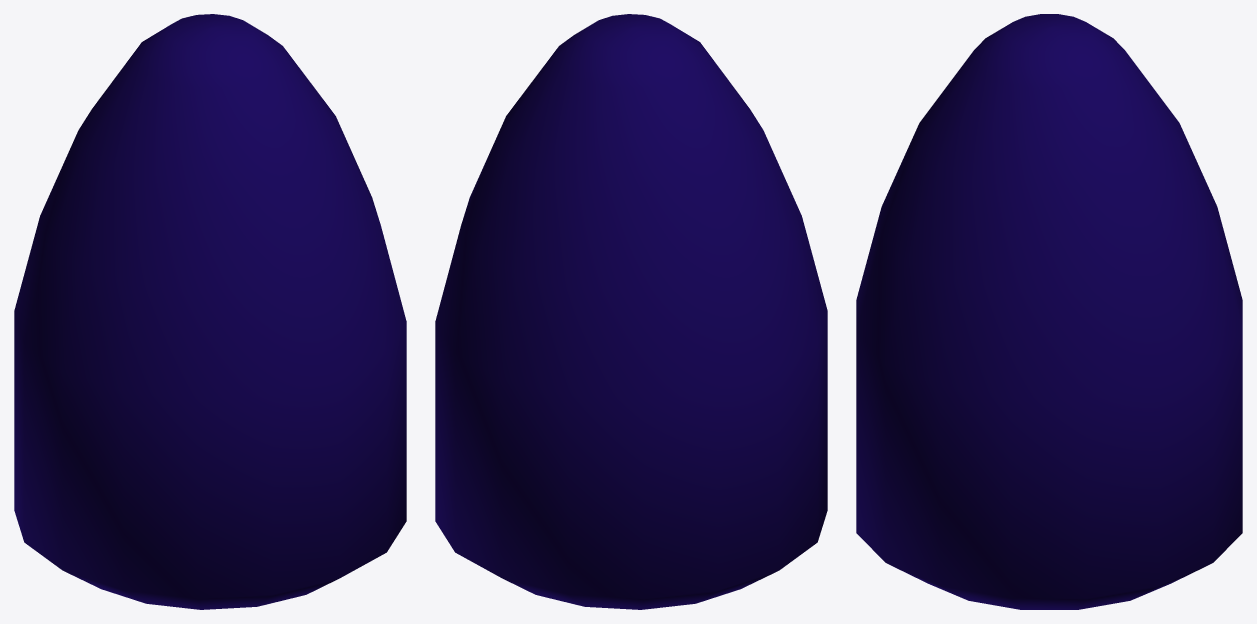
The model's file is Bullet_LOD0.FBX.
3 renders of one model, left to right at view 1: azimuth 30°, elevation 25°; view 2: azimuth 150°, elevation 25°; view 3: azimuth 270°, elevation 25°, orthographic.
Parts seen in each view (by area): view 1: Bullet_LOD0; view 2: Bullet_LOD0; view 3: Bullet_LOD0.
Part boxes in pixels (x1,y1,x2,y2): Bullet_LOD0: (14,14,406,609); Bullet_LOD0: (435,14,827,609); Bullet_LOD0: (856,14,1242,609).
Size of the model in its own units: 1.1 by 1.65 by 1.1.
